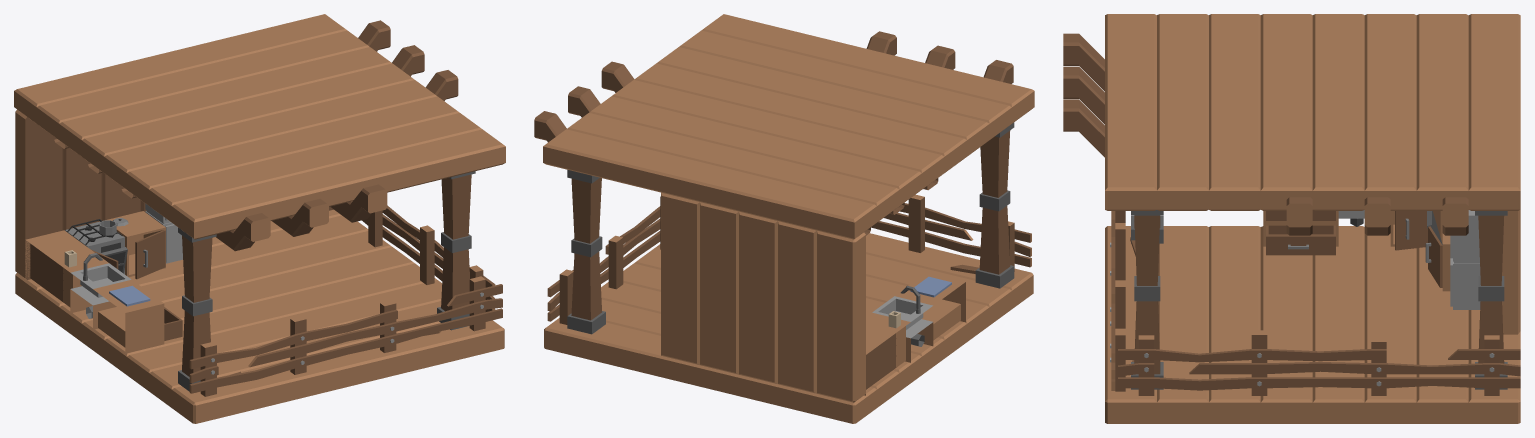
Rendered from Kitchen_Level_01_CornerRight.fbx.
3 views of the same model, side by side, from view 1: azimuth 30°, elevation 25°; view 2: azimuth 150°, elevation 25°; view 3: azimuth 270°, elevation 25° (orthographic). The views are drawn at different scales.
Parts seen in each view (by area): view 1: Kitchen_Level_01_CornerRight; view 2: Kitchen_Level_01_CornerRight; view 3: Kitchen_Level_01_CornerRight.
Boxes of the visible parts, x1=… form: Kitchen_Level_01_CornerRight: x1=14, y1=14, x2=505, y2=423; Kitchen_Level_01_CornerRight: x1=534, y1=14, x2=1034, y2=423; Kitchen_Level_01_CornerRight: x1=1063, y1=14, x2=1520, y2=423.
Size of the model in its own units: 880 by 505 by 880.
